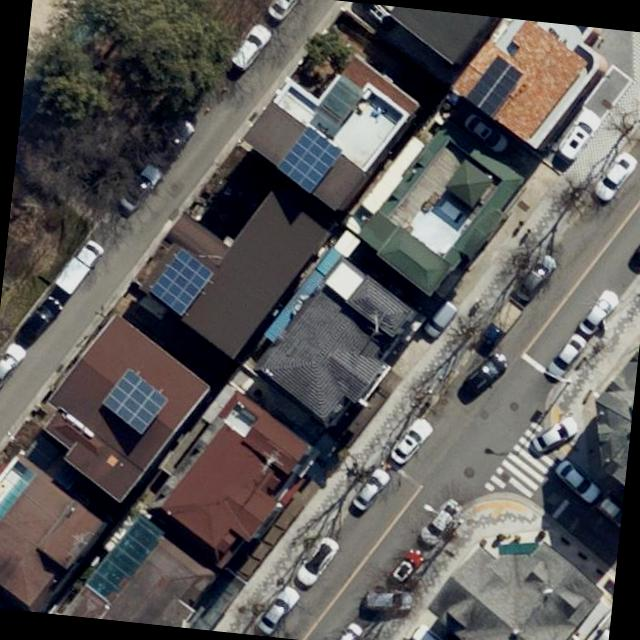solar: (142, 242, 222, 324), (95, 362, 175, 436), (271, 121, 344, 200), (462, 51, 528, 121)
